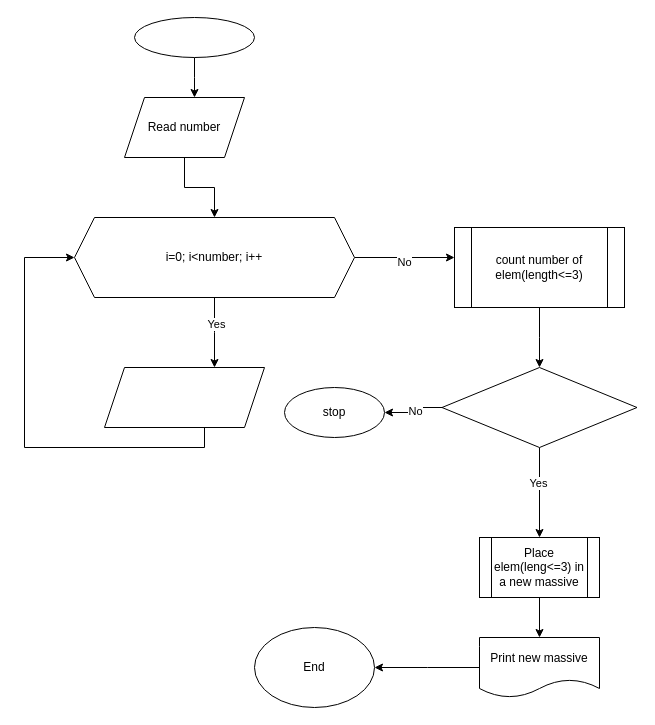
Some shapes in this 655 by 725 pixel diagram are drawn without their labels. The centre of each missing label's shape, as x and y in pixels:
"if count > 0" goes at point (539, 407).
"Read massive element" goes at point (184, 397).
"start" goes at point (194, 37).
